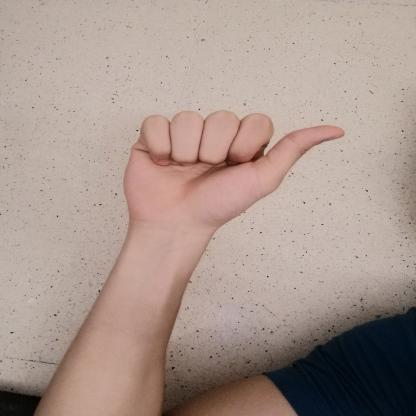DAD: (106, 102, 358, 240)
